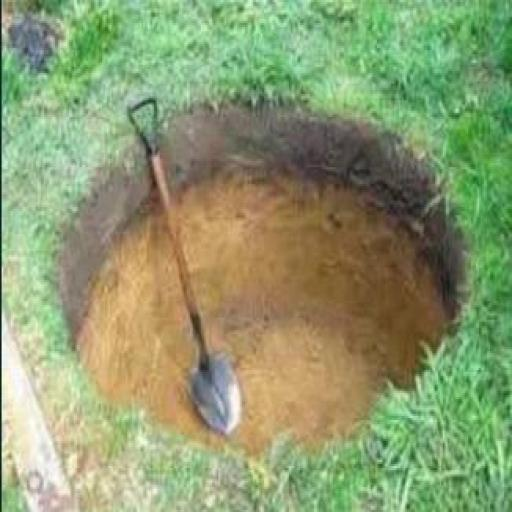entrance: (165, 109, 461, 453)
